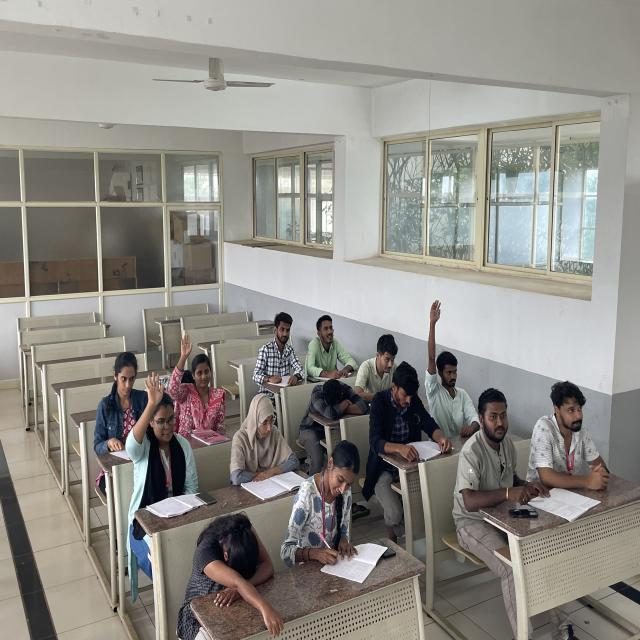Hand Rising: (120, 370, 200, 530), (422, 296, 480, 429), (166, 331, 226, 435)
Reading: (226, 391, 308, 500), (370, 359, 455, 463), (93, 350, 154, 464)
Sleeping: (189, 506, 280, 621), (300, 374, 370, 442)
Writing: (283, 436, 386, 585), (252, 308, 307, 390), (304, 312, 358, 383)
